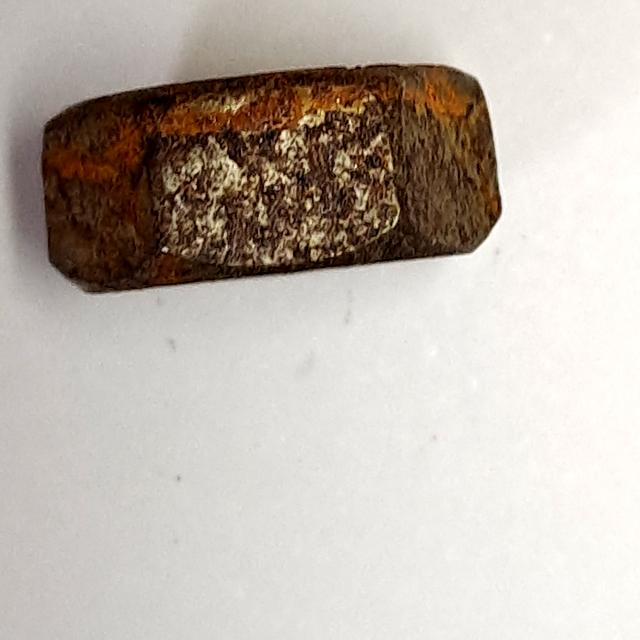Side_Rust: (32, 49, 514, 314)
